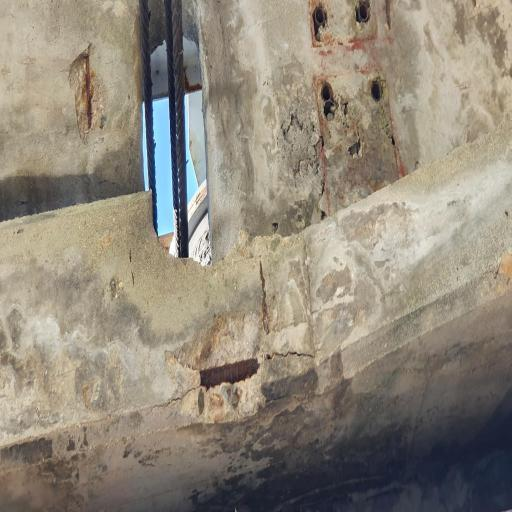exposed_rebar: (200, 359, 259, 389), (85, 55, 92, 128), (312, 5, 327, 39), (356, 2, 369, 21), (371, 80, 382, 101), (321, 84, 333, 103)
